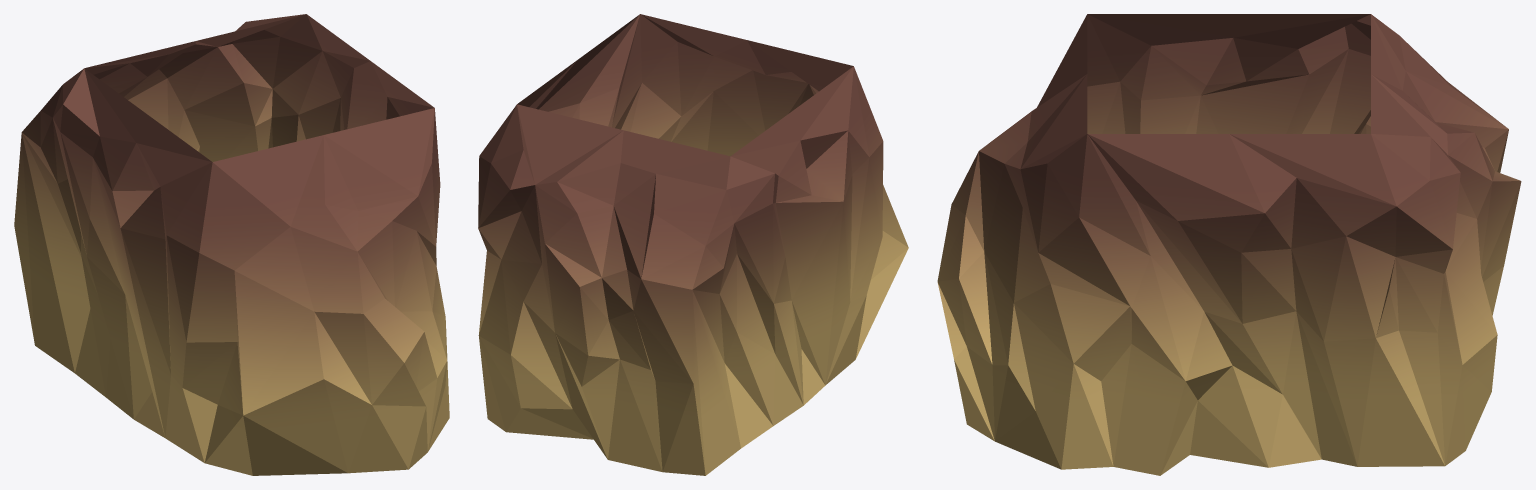
The model's file is Cliff1.fbx.
3 views of the same model, side by side, from view 1: azimuth 30°, elevation 25°; view 2: azimuth 150°, elevation 25°; view 3: azimuth 270°, elevation 25° (orthographic). The views are drawn at different scales.
Visible parts, largest first — view 1: Cliff1; view 2: Cliff1; view 3: Cliff1.
Boxes of the visible parts, x1=… form: Cliff1: x1=14, y1=14, x2=449, y2=475; Cliff1: x1=478, y1=14, x2=908, y2=475; Cliff1: x1=937, y1=14, x2=1521, y2=475.
Bounding box in the file's own units: 133 × 130 × 206.
